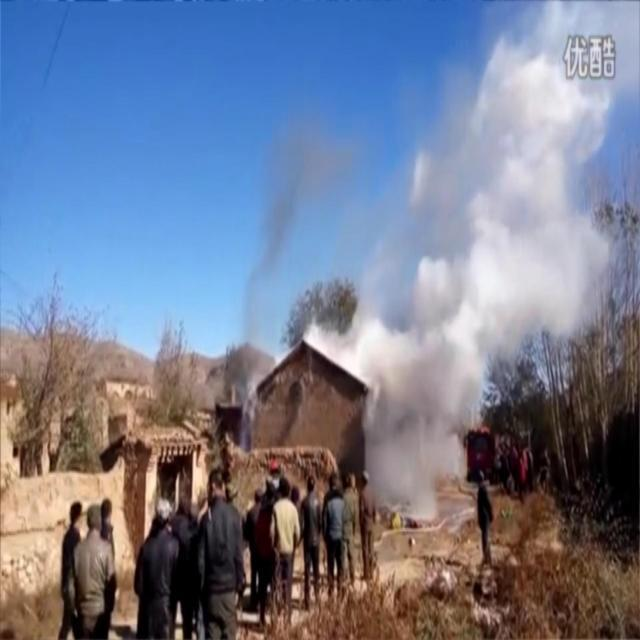Smoke: (239, 0, 640, 523)
